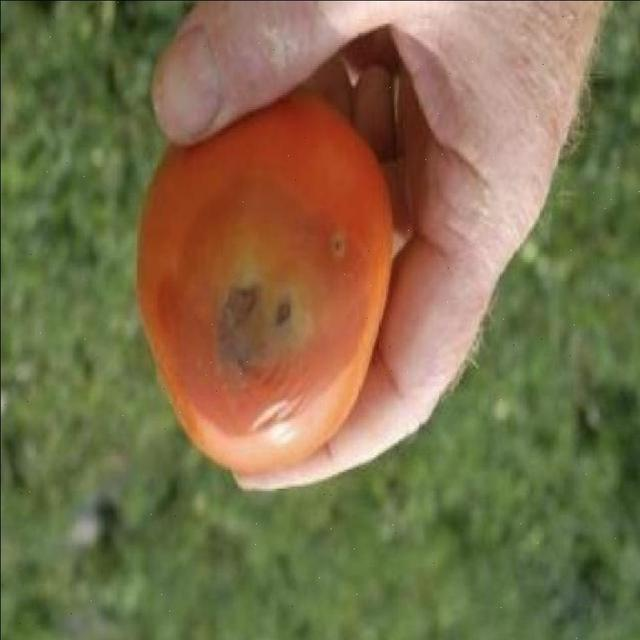Blossom End Rot Fruit: (15, 22, 228, 222)
